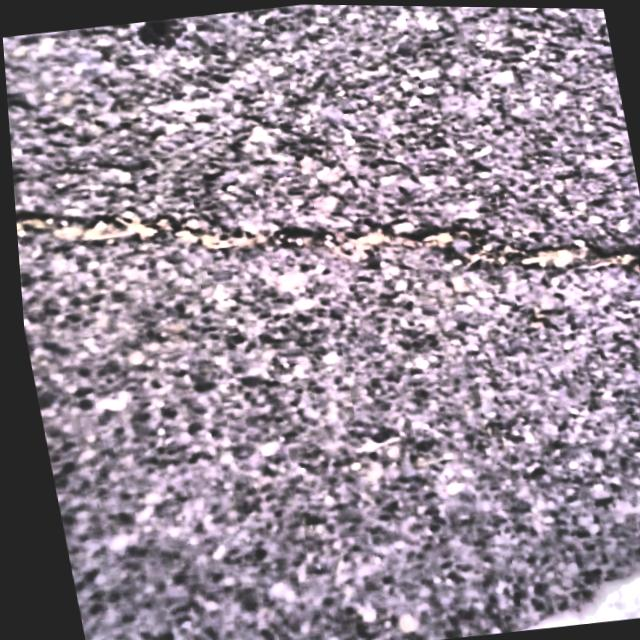cracks: (14, 118, 640, 392)
